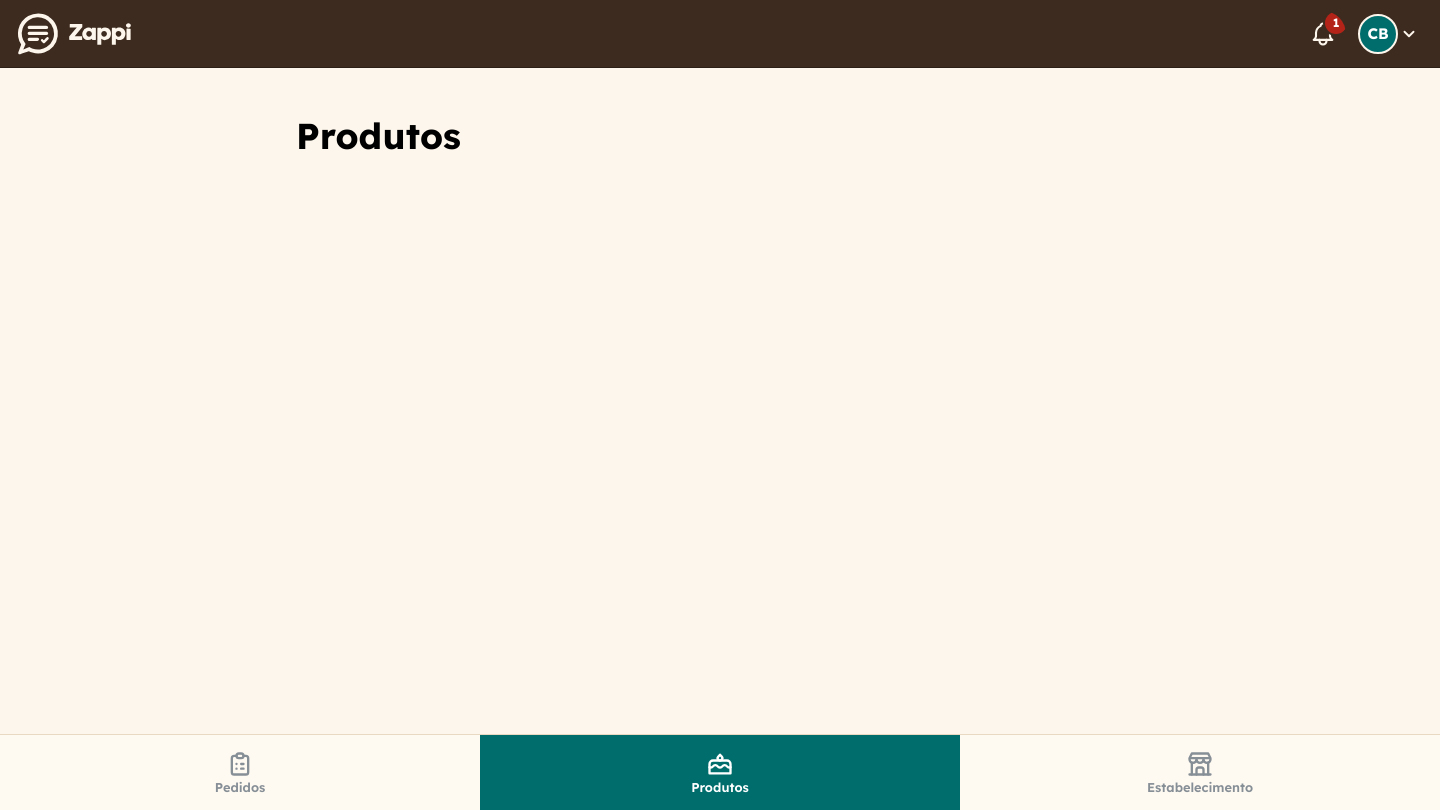
Test: sino de notificações (ZAP-175) › clicar numa notificação fecha a caixinha e abre o pedido no quadro
Click the button named "Notificações" at (1323, 34), box [1300, 10, 1346, 56]
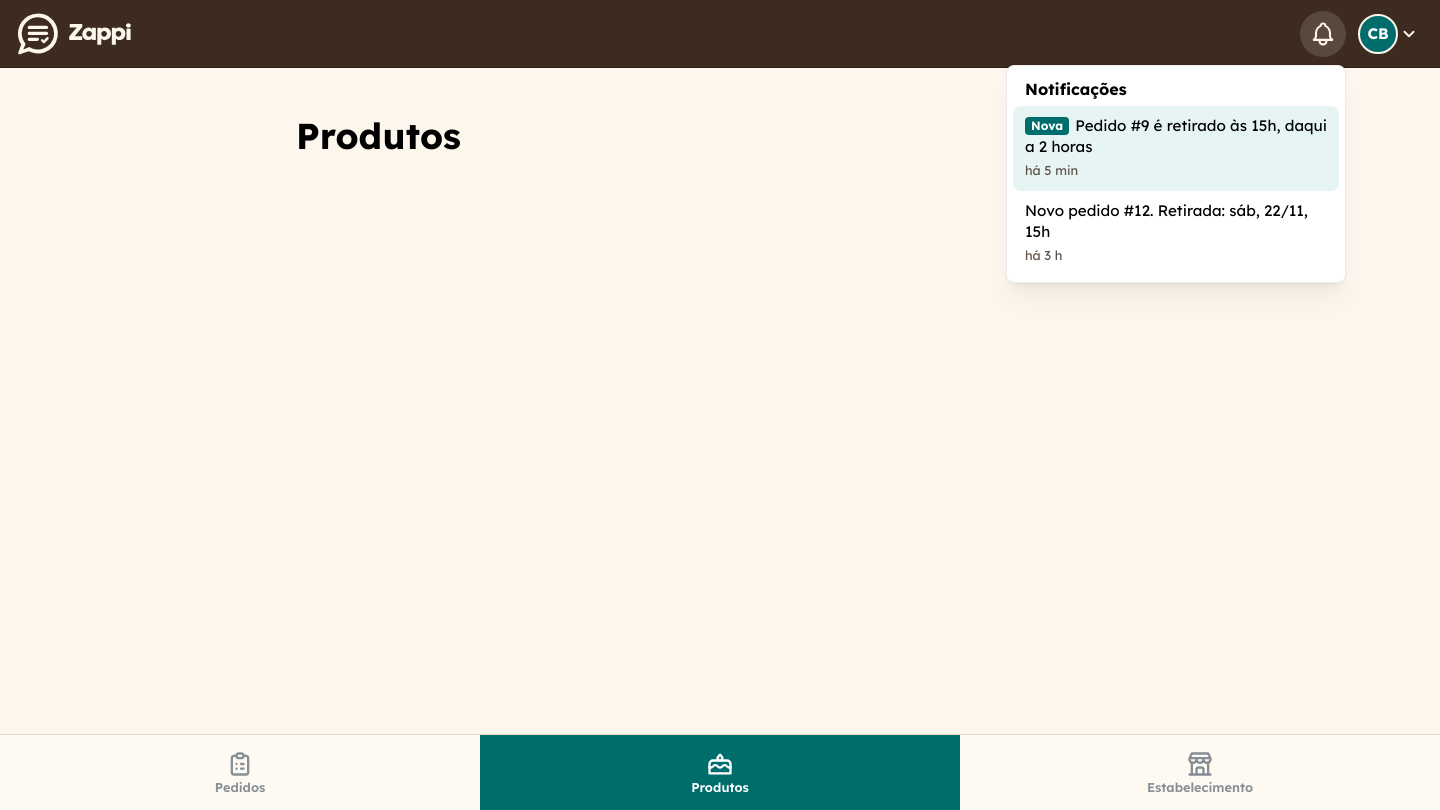
Click the menu item "Nova Pedido #9 é retirado às 15h, daqui a 2 horas há 5 min" at (1047, 126), box [1013, 106, 1339, 191]
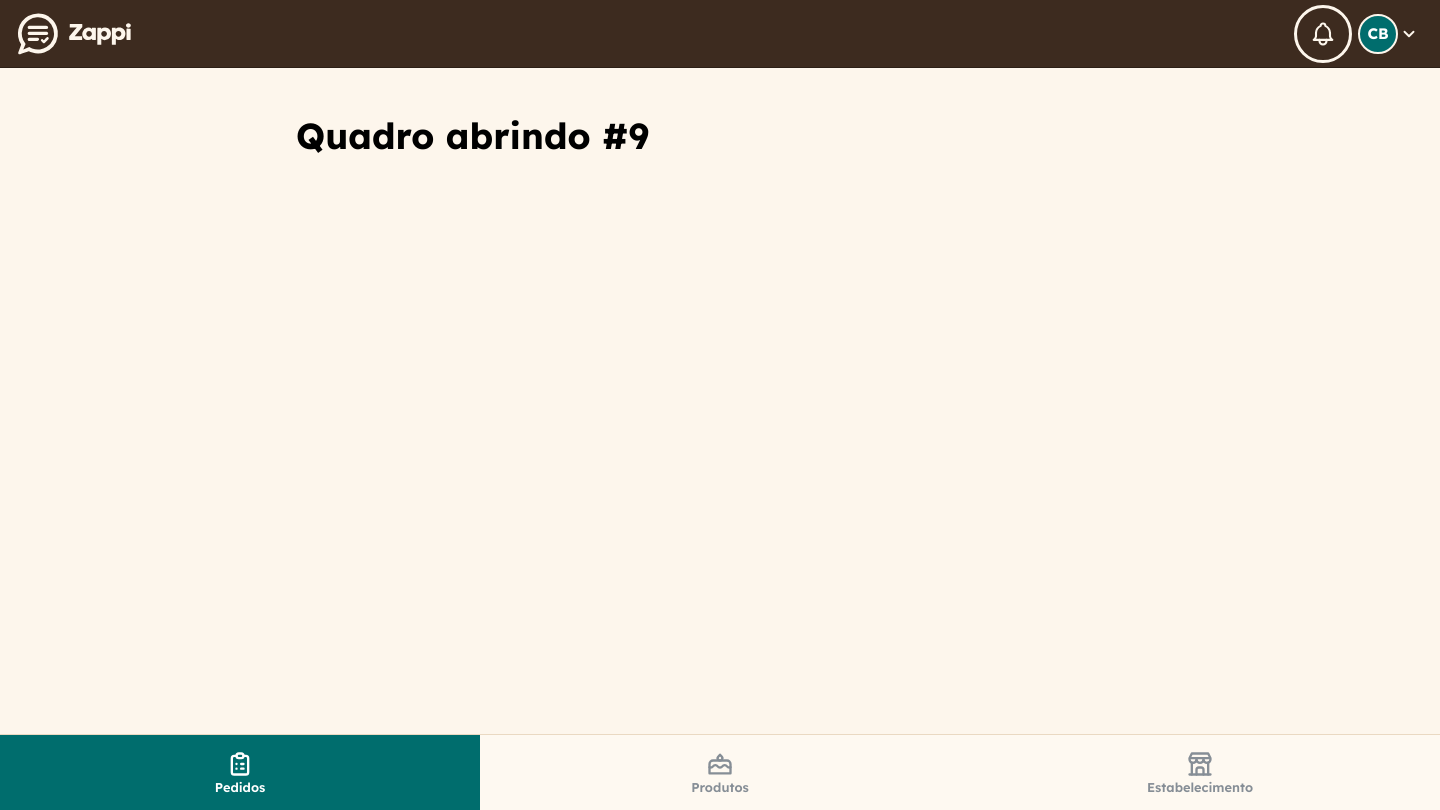
Expected: the heading "Quadro abrindo #9" is shown, [296, 113, 649, 158]
Expected: the menu is gone
